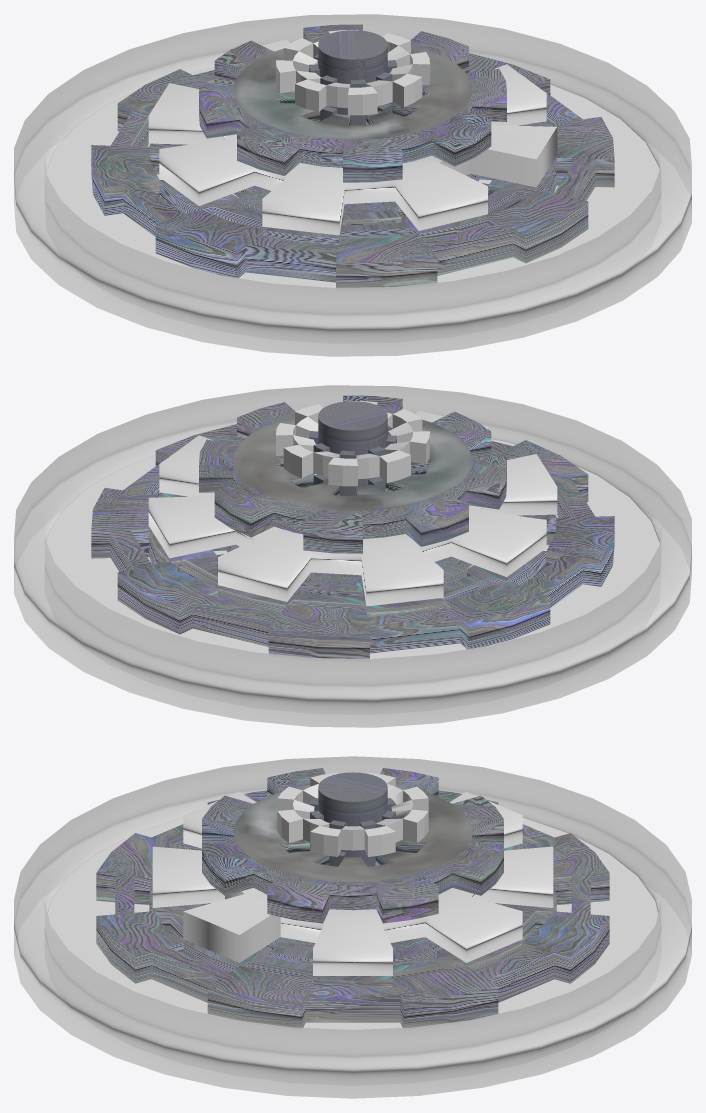
The model's file is Fuente.fbx.
The picture shows the model from 3 angles, top to bottom: view 1: azimuth 30°, elevation 25°; view 2: azimuth 150°, elevation 25°; view 3: azimuth 270°, elevation 25°; orthographic projection.
Visible parts, largest first — view 1: Cylinder.023, Engranaje_exterior.004, Cylinder.030, Cylinder.022, Cylinder.020, Engranaje_exterior.003, Cylinder.024, Cylinder, Engranaje_exterior.005; view 2: Cylinder.023, Engranaje_exterior.004, Cylinder.030, Cylinder.022, Cylinder.020, Engranaje_exterior.003, Cylinder.024, Cylinder, Engranaje_exterior.005; view 3: Cylinder.023, Engranaje_exterior.004, Cylinder.030, Cylinder.022, Cylinder.020, Engranaje_exterior.003, Cylinder.024, Cylinder, Engranaje_exterior.005.
Part boxes in pixels (x1,y1,x2,y2): Cylinder.023: (14,14,691,356); Engranaje_exterior.004: (91,53,614,287); Cylinder.030: (199,24,506,182); Cylinder.022: (148,36,557,235); Cylinder.020: (46,68,659,287); Engranaje_exterior.003: (149,122,556,246); Cylinder.024: (276,29,429,115); Cylinder: (309,30,396,125); Engranaje_exterior.005: (233,173,493,225); Cylinder.023: (14,385,691,727); Engranaje_exterior.004: (91,424,614,658); Cylinder.030: (199,395,506,553); Cylinder.022: (148,407,557,606); Cylinder.020: (46,439,659,658); Engranaje_exterior.003: (149,493,556,617); Cylinder.024: (276,400,429,486); Cylinder: (309,401,396,496); Engranaje_exterior.005: (212,544,472,596); Cylinder.023: (14,756,691,1098); Engranaje_exterior.004: (96,790,609,1027); Cylinder.030: (202,768,503,923); Cylinder.022: (152,791,553,975); Cylinder.020: (48,818,657,1029); Engranaje_exterior.003: (149,844,556,986); Cylinder.024: (277,772,428,856); Cylinder: (310,772,395,866); Engranaje_exterior.005: (204,903,501,965).
Bounding box in the file's own units: 15105 × 4136 × 15105.
